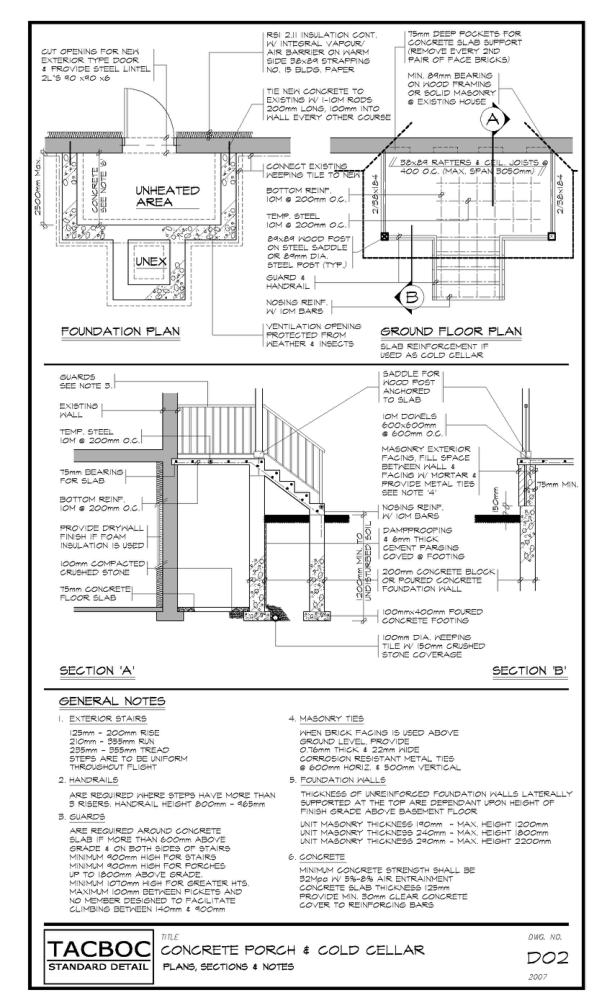elevation: (479, 101, 510, 208), (394, 223, 425, 315)
